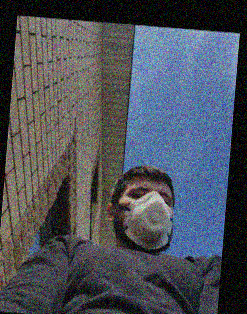with_mask: (117, 183, 174, 253)
